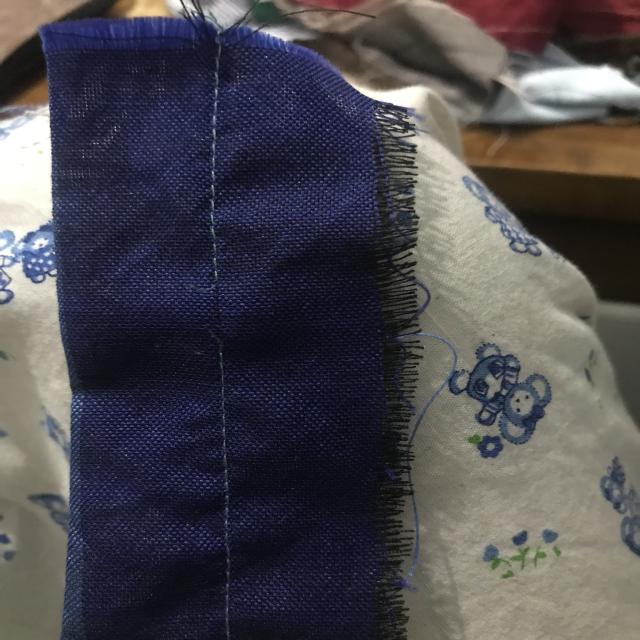broken: (175, 270, 250, 359)
good: (192, 144, 227, 233)
